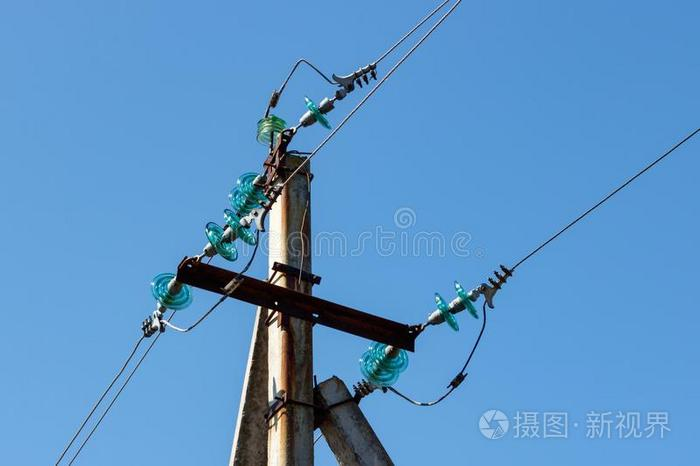insulator: (205, 211, 260, 263), (433, 281, 480, 331), (356, 341, 407, 387), (147, 273, 193, 310), (225, 173, 268, 211), (303, 91, 334, 134)
